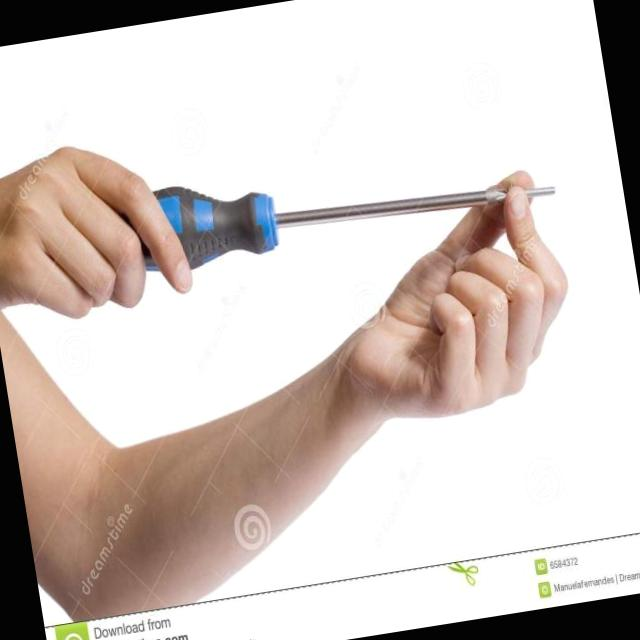screwdriver: (156, 187, 506, 267)
